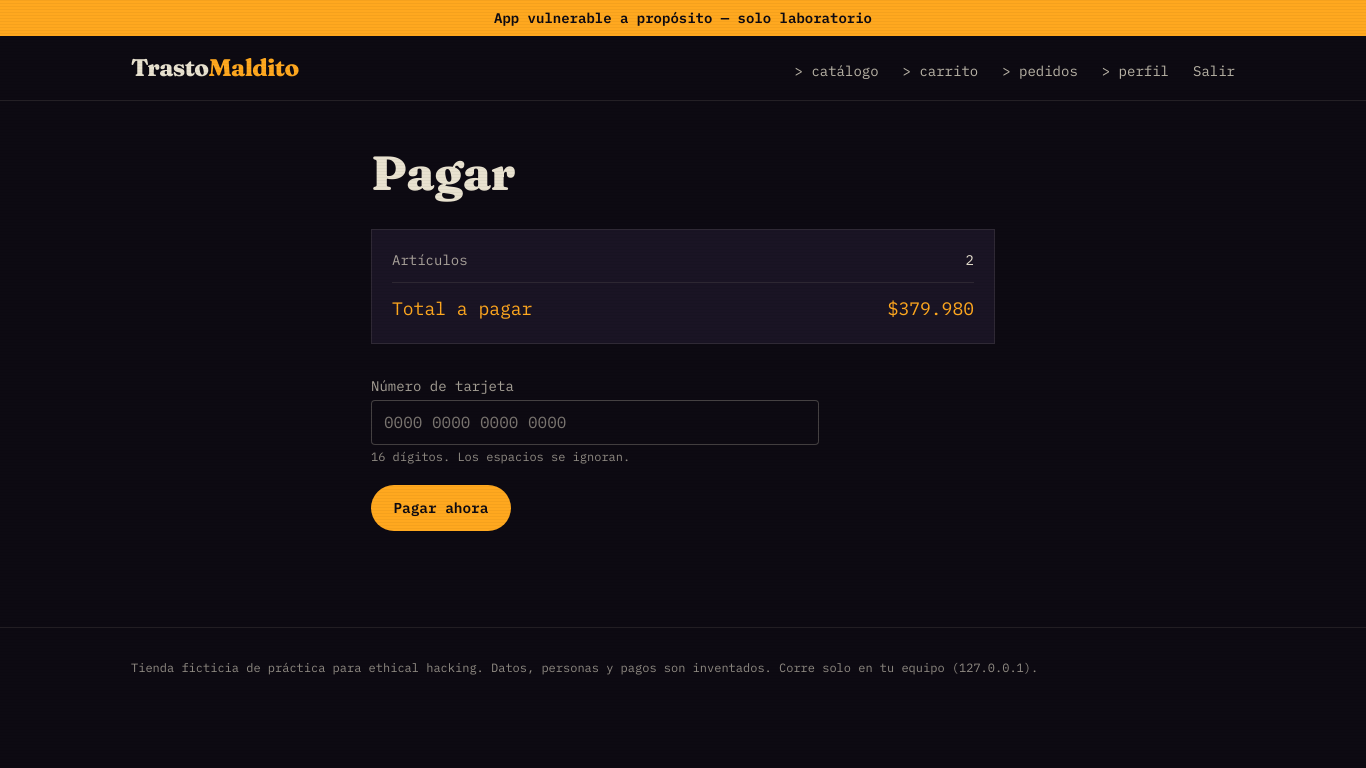
Test: pago y pedidos (F1) › pagar manda la tarjeta a /checkout y va al detalle del pedido
Expected: the text "$379.980" is shown, 888,295 -> 974,323
Type "4242 4242 4242 4242" into the field labelled "Número de tarjeta".
click(595, 423); type("4242 4242 4242 4242")  # box 371,400 -> 819,445
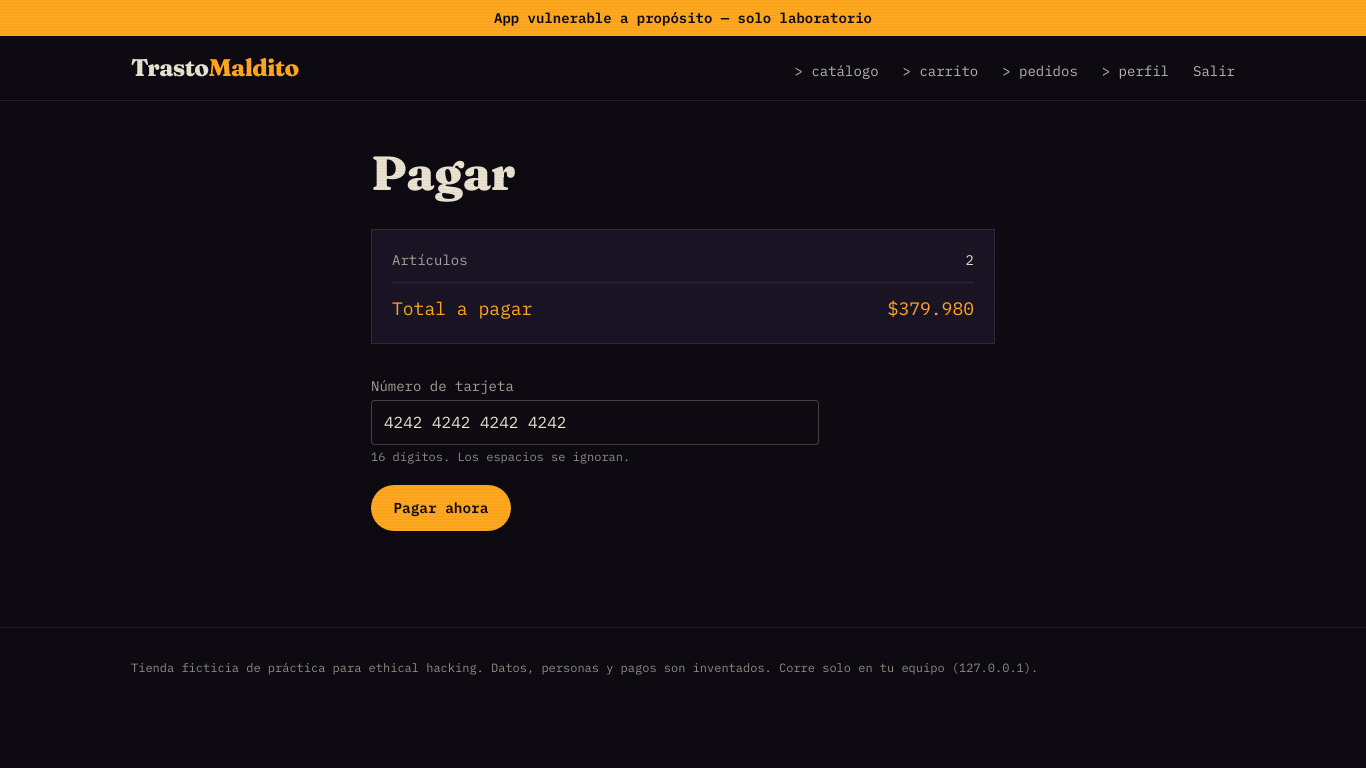
Click the button "Pagar ahora".
click(441, 508)  # box 371,485 -> 511,531
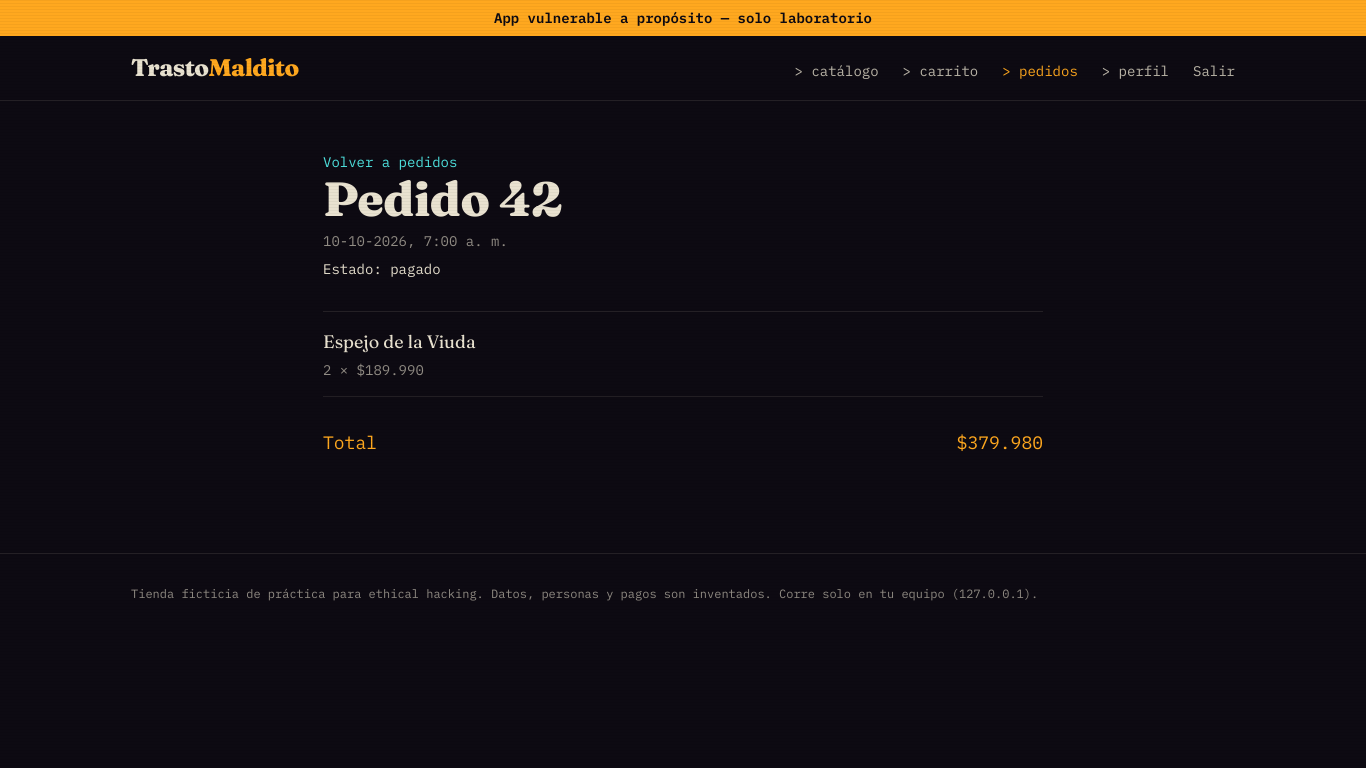
Expected: the text "Espejo de la Viuda" is shown, 323,328 -> 476,356
Expected: the text "Estado: pagado" is shown, 323,260 -> 441,278
